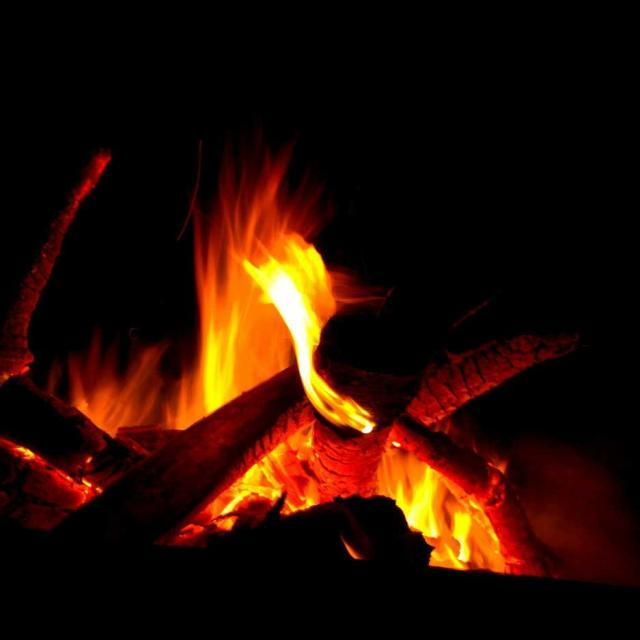Fire: (226, 205, 312, 376), (414, 452, 502, 570), (317, 386, 409, 496), (72, 360, 200, 437), (240, 450, 306, 510)
